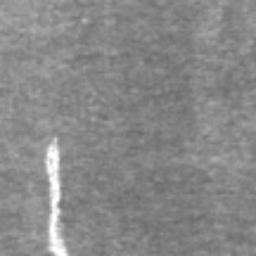White rust: (44, 136, 69, 256)
